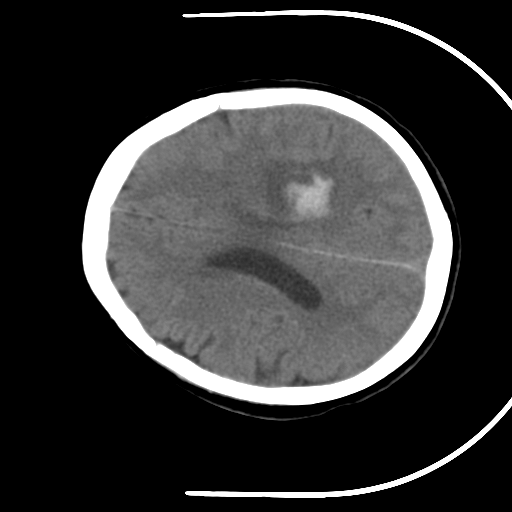a: (261, 149, 351, 235)
